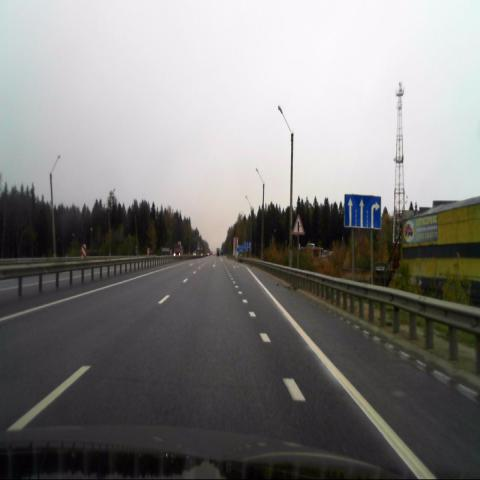2_3_2: (293, 217, 303, 233)
5_15_1: (344, 193, 382, 229)
